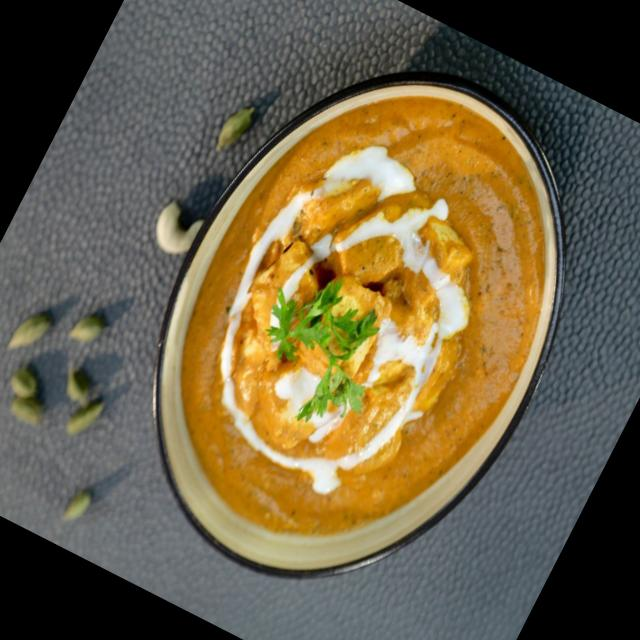ShahiPaneer: (113, 34, 618, 604)
